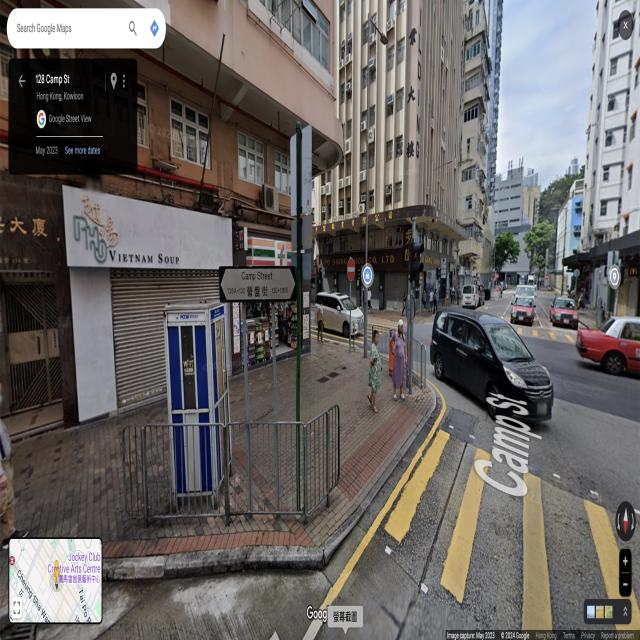Order-Sign: (347, 258, 355, 281)
Street-Direction-Sign: (219, 265, 297, 301)
